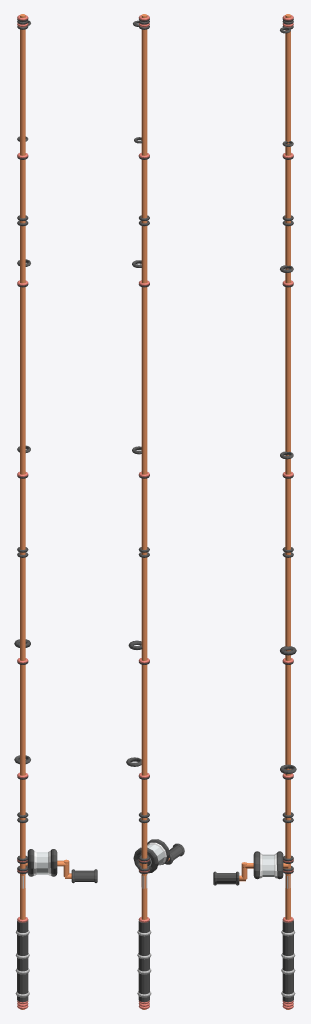
Rendered from FishingRod_Source.glb.
3 renders of one model, left to right at view 1: azimuth 90°, elevation 25°; view 2: azimuth 150°, elevation 25°; view 3: azimuth 270°, elevation 25°, orthographic.
Visible parts, largest first — view 1: Node; view 2: Node; view 3: Node.
Part boxes in pixels (x1,y1,x2,y2): Node: (14,14,97,1009); Node: (126,14,184,1009); Node: (213,14,296,1009).
Size of the model in its own units: 0.11 by 3.9 by 0.2963.
